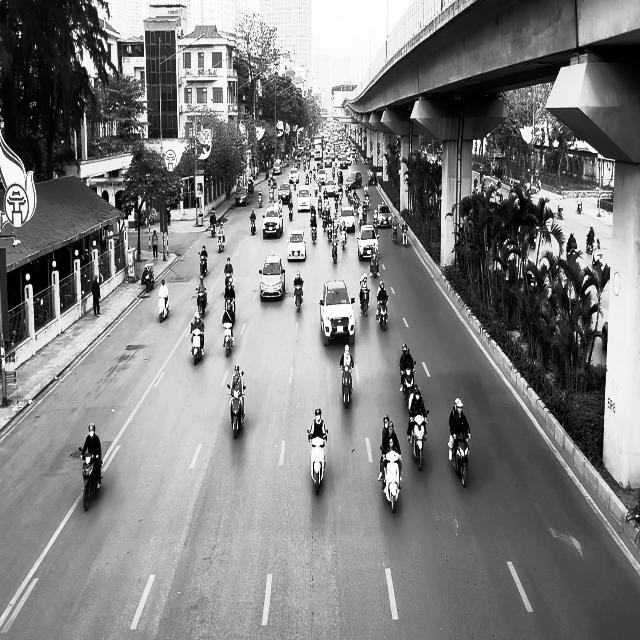car: (319, 279, 355, 346), (258, 253, 286, 300), (357, 225, 379, 260), (286, 229, 307, 261), (262, 207, 283, 239), (340, 206, 356, 232), (297, 184, 311, 212), (376, 204, 392, 227), (278, 182, 291, 204), (235, 186, 249, 206)
motorbike: (79, 447, 102, 511), (380, 447, 402, 513), (407, 409, 429, 470), (308, 428, 328, 495), (449, 432, 471, 487), (227, 375, 245, 439), (339, 362, 354, 408), (400, 363, 416, 406), (190, 323, 204, 365), (222, 319, 234, 357), (376, 296, 388, 330), (196, 287, 207, 317), (359, 287, 370, 316), (293, 281, 303, 312), (158, 294, 169, 322), (143, 265, 154, 291), (198, 251, 207, 276), (401, 225, 408, 247), (218, 232, 225, 252), (250, 217, 256, 236)
